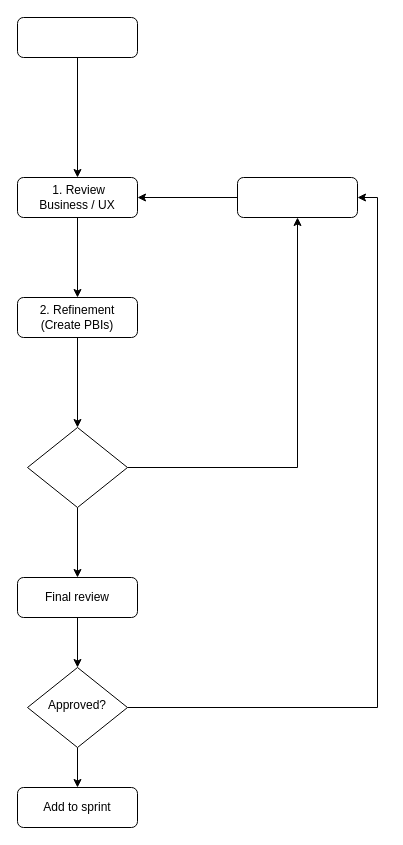
The diagram is 403 pixels wide and 845 high, and some of its shapes have lost their labels. Here are the shapes that lost their labels. From the top down, the centre of each, then its label:
At (77,37): "New feaure".
At (297,197): "Complement UX / Business specs".
At (77,467): "Ready?".
